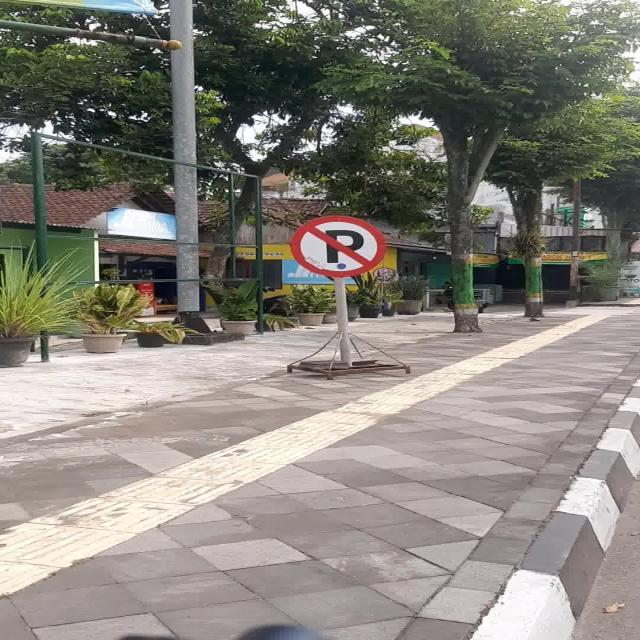Dilarang Parkir: (290, 216, 386, 277)
